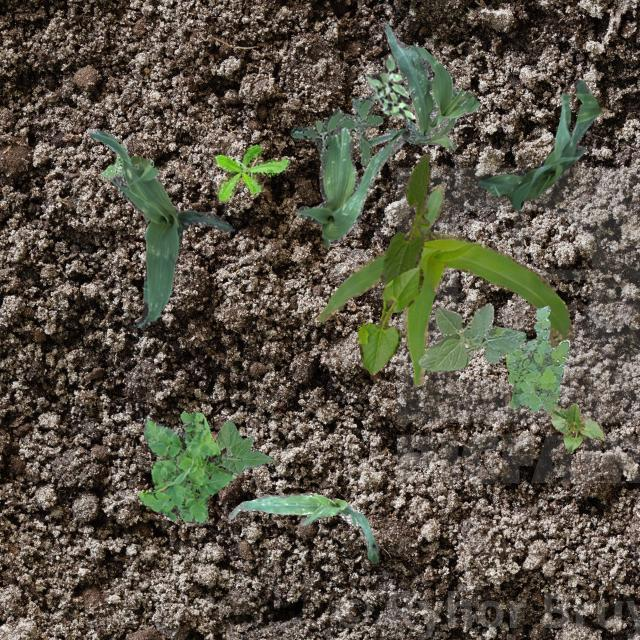crop: (316, 184, 572, 386), (88, 128, 234, 328), (476, 78, 600, 208), (366, 22, 479, 150), (296, 125, 408, 246), (228, 492, 378, 562), (418, 302, 524, 371), (358, 266, 422, 374), (380, 154, 430, 284), (214, 419, 274, 474), (550, 402, 604, 452)
weed: (138, 409, 235, 524), (504, 304, 568, 414), (289, 95, 382, 167), (212, 144, 286, 200), (366, 52, 414, 120), (97, 142, 125, 178)
